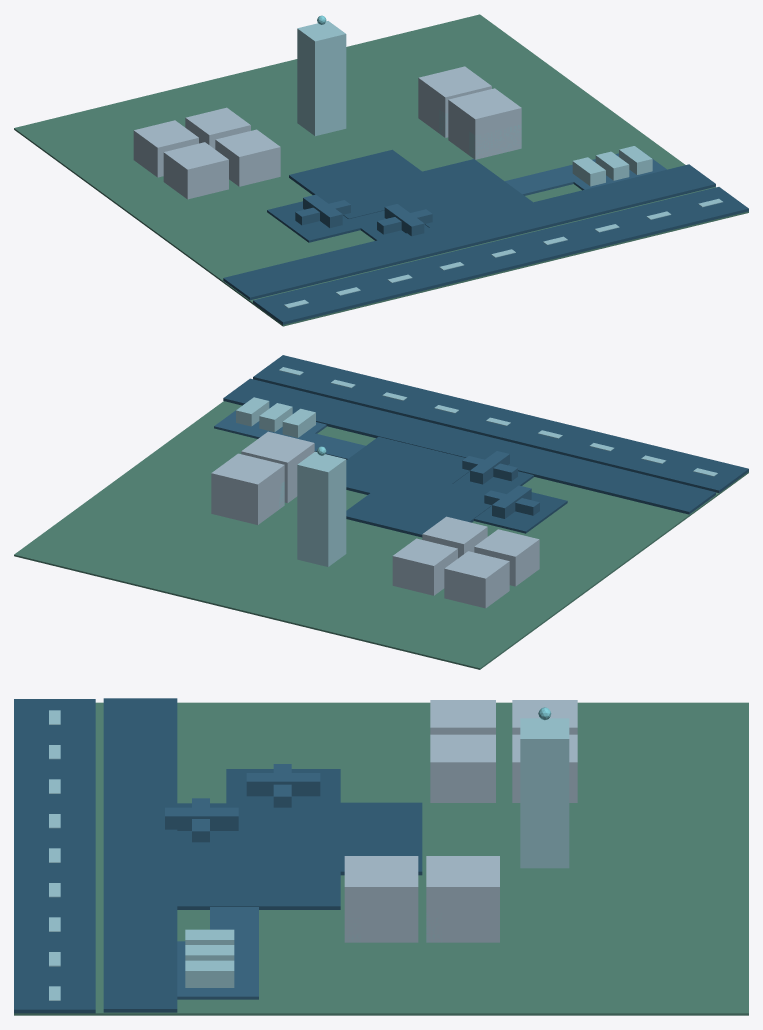
File: stage_14.glb
3 views of the same model, one above another, from view 1: azimuth 30°, elevation 25°; view 2: azimuth 150°, elevation 25°; view 3: azimuth 270°, elevation 25° (orthographic). The views are drawn at different scales.
Parts seen in each view (by area): view 1: geometry_0; view 2: geometry_0; view 3: geometry_0.
Part boxes in pixels (x1,y1,x2,y2): geometry_0: [14, 14, 748, 326]; geometry_0: [14, 355, 748, 669]; geometry_0: [14, 698, 748, 1015].
Bounding box in the file's own units: 9 × 2.06 × 9.
